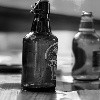beer: (20, 1, 62, 96)
